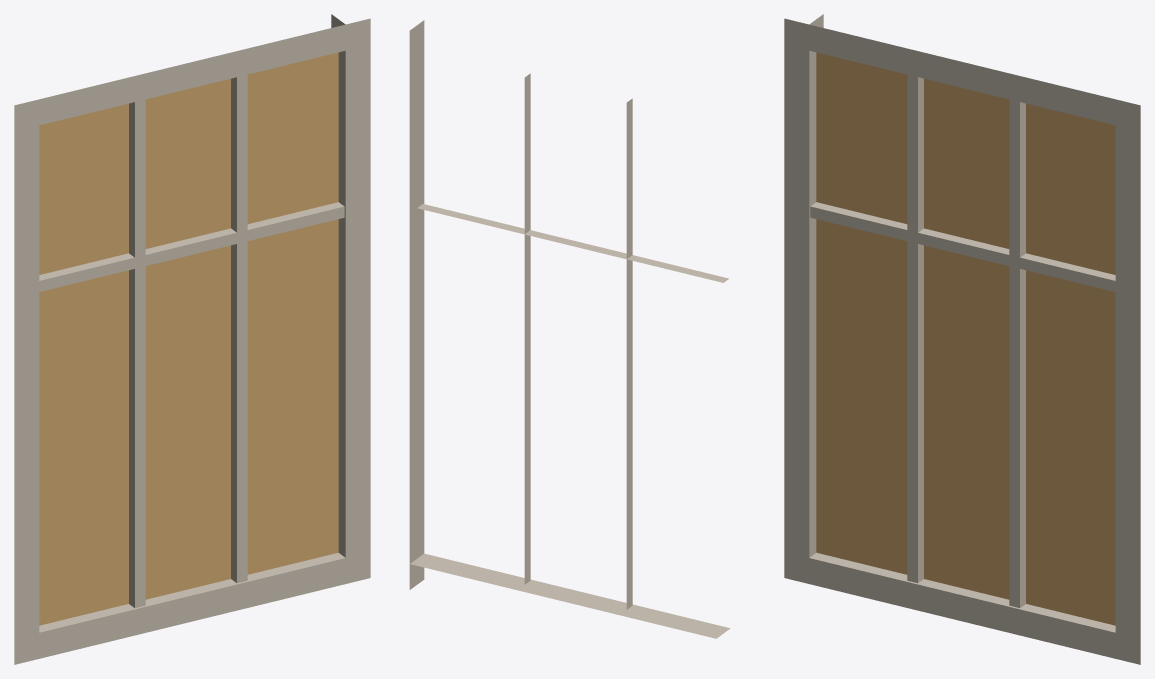
The model's file is window-arch-lit.glb.
3 views of the same model, side by side, from view 1: azimuth 30°, elevation 25°; view 2: azimuth 150°, elevation 25°; view 3: azimuth 330°, elevation 25° (orthographic).
Bounding box in the file's own units: 1 × 1.5 × 0.07.
